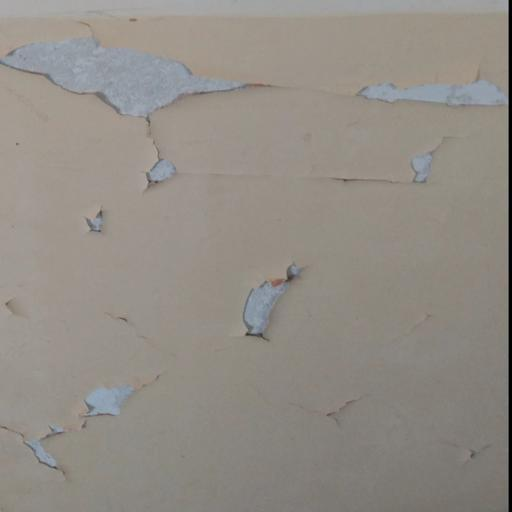peeling: (0, 13, 268, 205), (0, 336, 182, 495), (349, 56, 512, 218), (228, 258, 328, 348), (72, 196, 127, 244)
